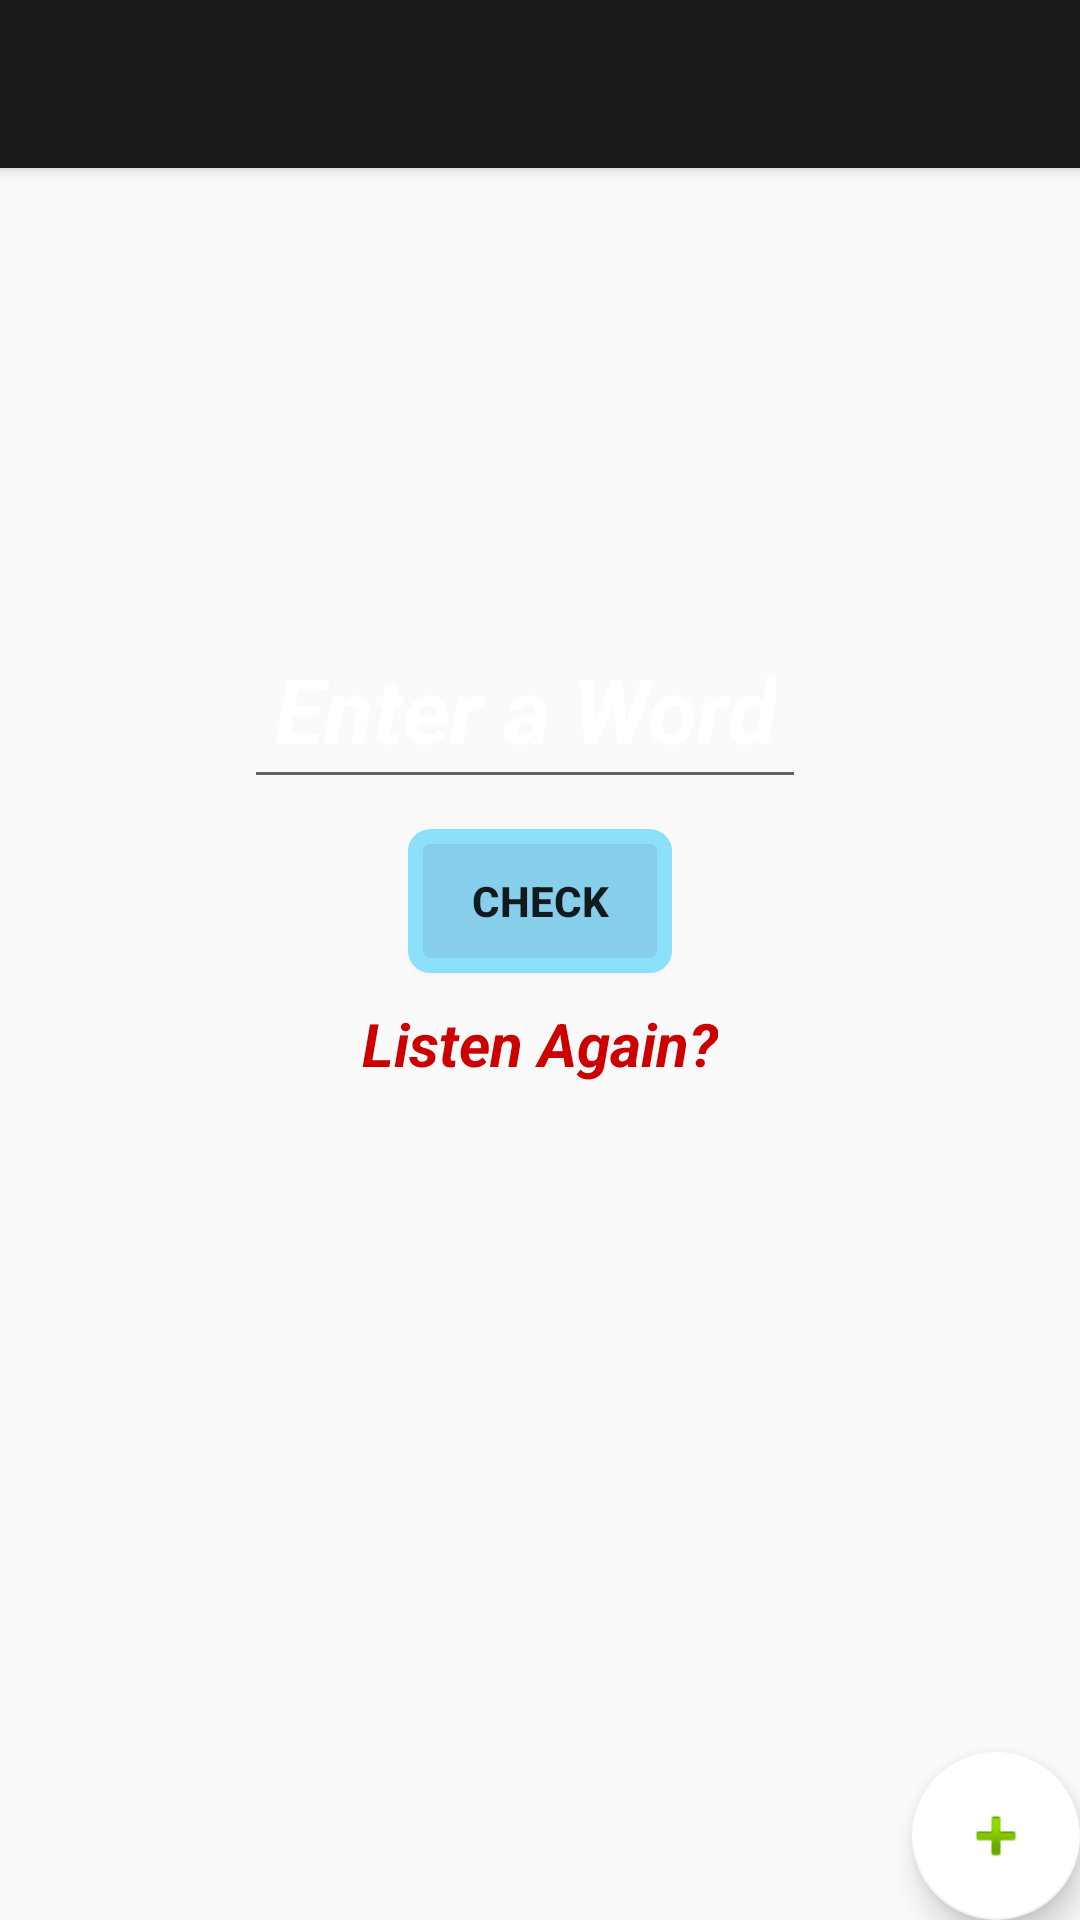

Screen size 1080w x 1920h. Icon name, then its center in pixels as [x,y]:
add: [999,1868]
